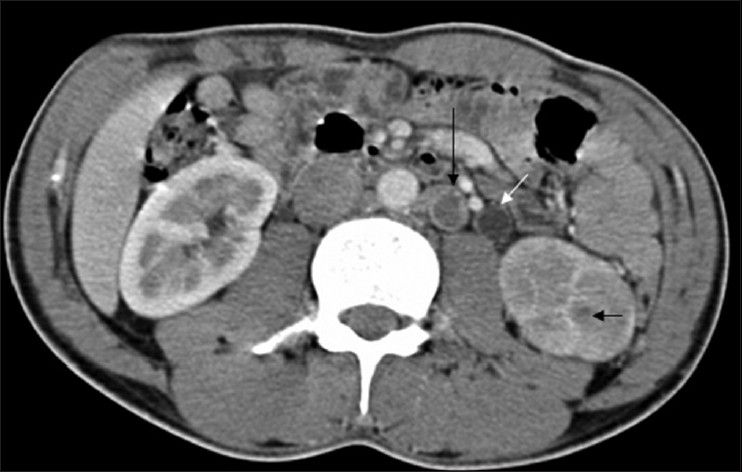anomaly: (422, 189, 473, 230)
